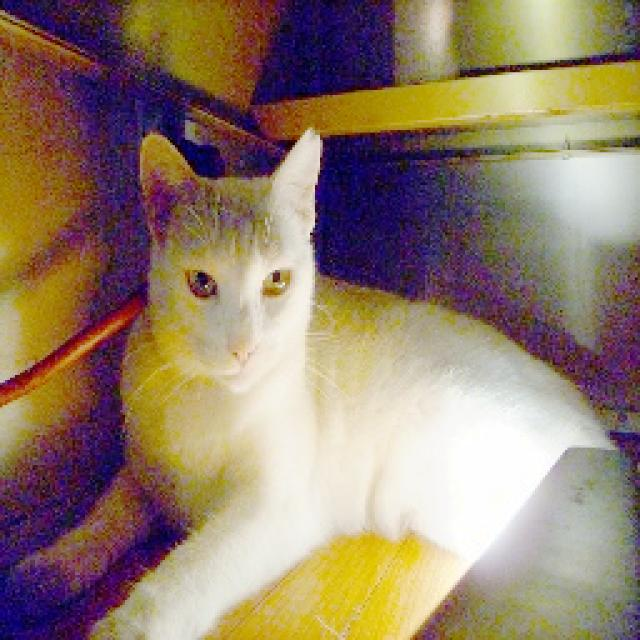cat: (91, 122, 640, 626)
